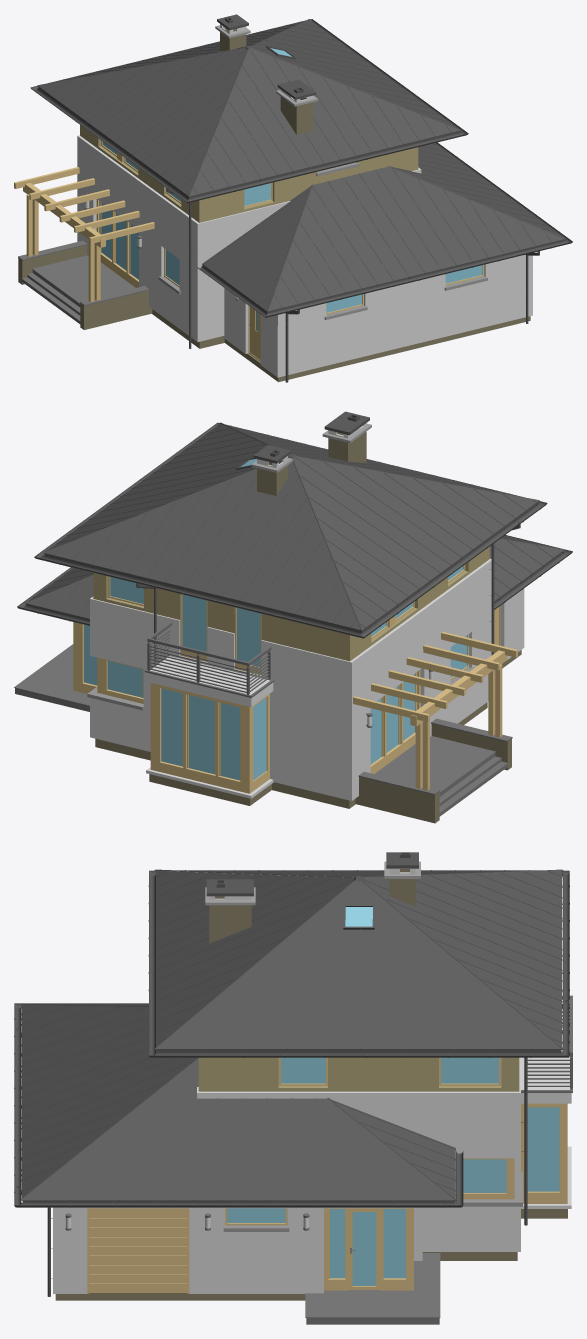
File: Bambo_House.fbx
3 renders of one model, top to bottom at view 1: azimuth 30°, elevation 25°; view 2: azimuth 150°, elevation 25°; view 3: azimuth 270°, elevation 25°, orthographic. The views are drawn at different scales.
Visible parts, largest first — view 1: roof, body_house, gutters, boards, stairs, wall_barrels, windows, chimneys, fundametnts, door, ridge, parapet; view 2: roof, body_house, windows, boards, stairs, gutters, wall_barrels, barrels, chimneys, fundametnts, door, ridge; view 3: roof, body_house, windows, gutters, garage, stairs, chimneys, fundametnts, ridge, door, barrels, parapet (+1 smaller).
Part boxes in pixels (x1,y1,x2,y2): roof: (38,20,565,313); body_house: (77,125,532,377); gutters: (30,19,572,382); boards: (14,167,154,302); stairs: (22,255,135,323); wall_barrels: (18,240,152,329); windows: (101,140,484,361); chimneys: (215,14,318,134); fundametnts: (152,309,530,382); door: (96,199,138,287); ridge: (37,19,565,311); parapet: (158,162,487,319); roof: (25,423,564,633); body_house: (90,546,524,800); windows: (73,564,500,793); boards: (353,632,517,790); stairs: (14,644,508,816); gutters: (17,422,572,662); wall_barrels: (355,718,512,823); barrels: (144,622,274,697); chimneys: (251,411,371,495); fundametnts: (15,650,521,808); door: (370,670,420,773); ridge: (25,422,564,630); roof: (21,870,562,1202); body_house: (53,871,571,1293); windows: (225,1057,567,1290); gutters: (14,870,569,1296); garage: (87,1208,189,1293); stairs: (305,1253,440,1317); chimneys: (205,852,420,943); fundametnts: (55,1209,567,1324); ridge: (21,869,563,1199); door: (349,1209,379,1289); barrels: (521,995,572,1092); parapet: (223,1171,522,1231).
Bounding box in the file's own units: 1768 × 1094 × 1659.
